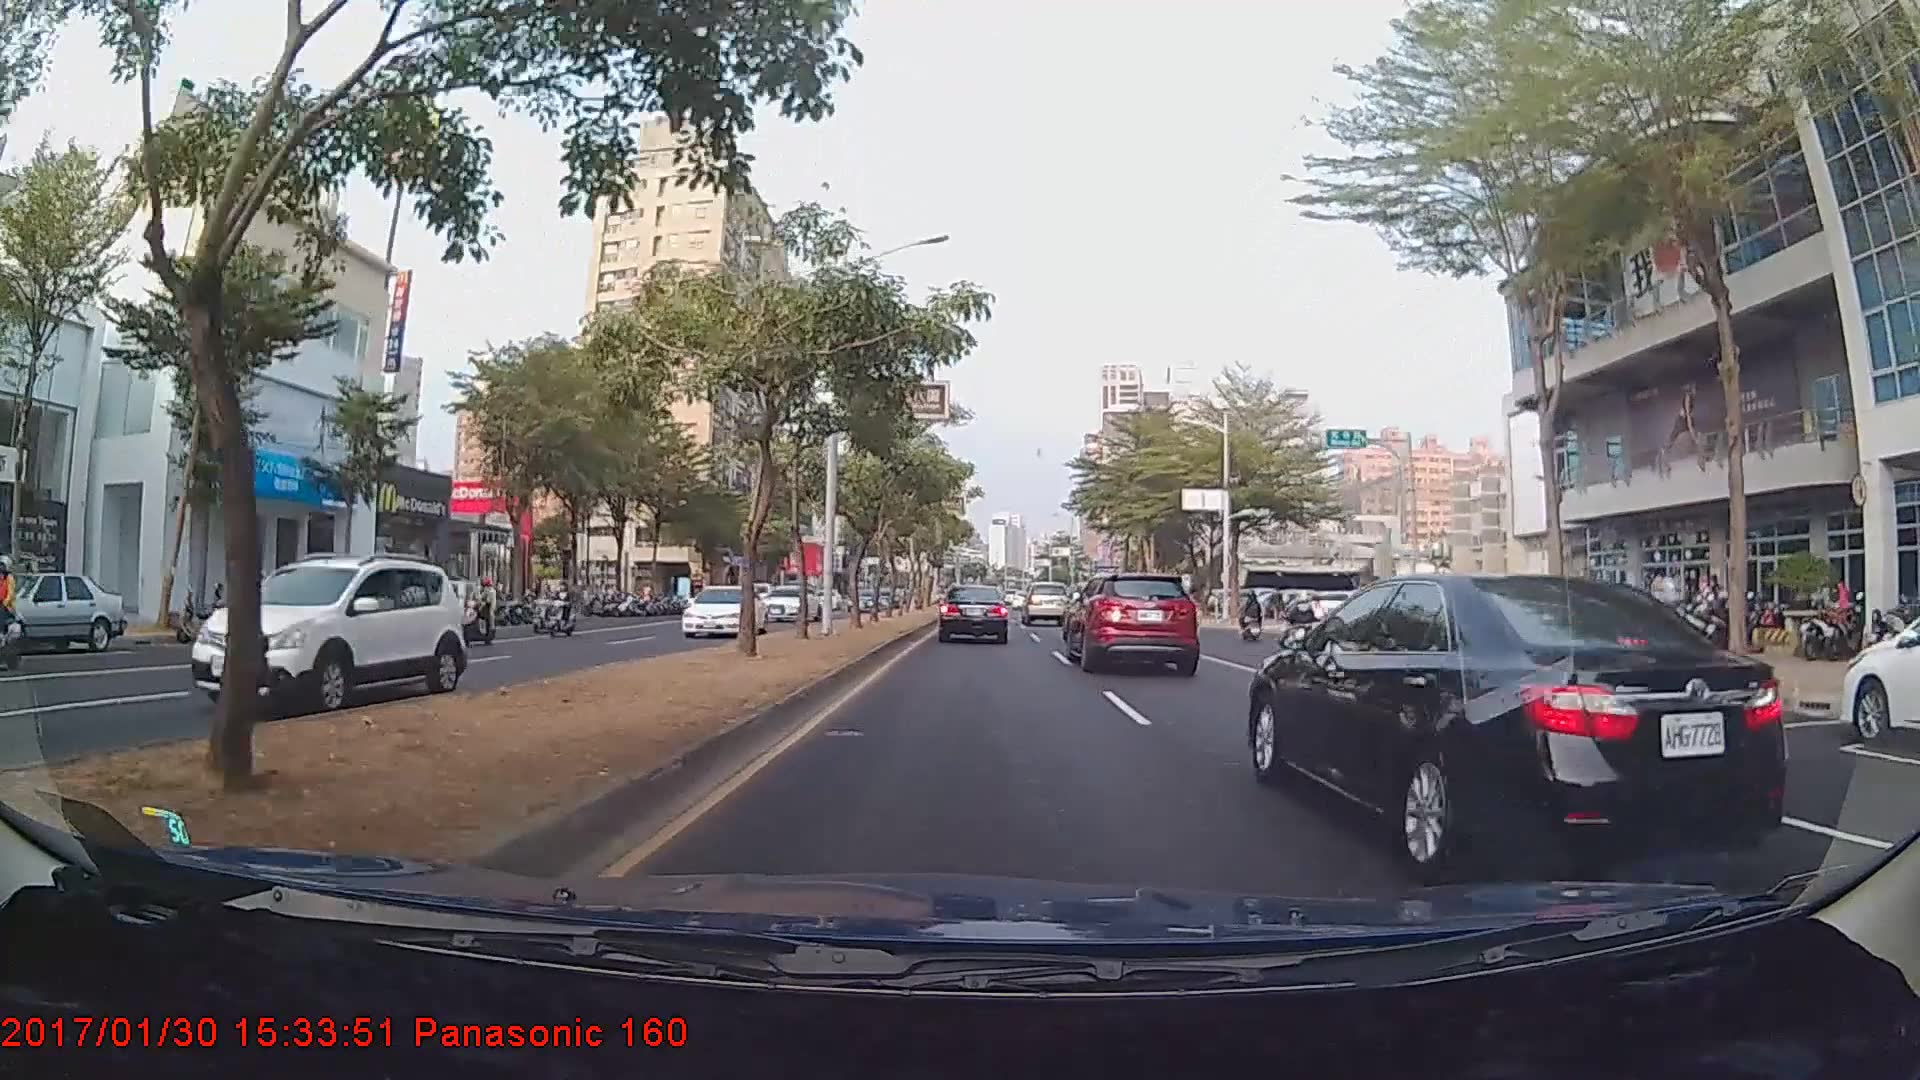vehicle: (1247, 558, 1764, 869), (189, 551, 472, 713), (1065, 570, 1200, 673), (1838, 603, 1920, 752), (0, 571, 124, 653), (678, 582, 767, 637), (938, 583, 1009, 644), (756, 582, 823, 624), (1021, 582, 1071, 626)
